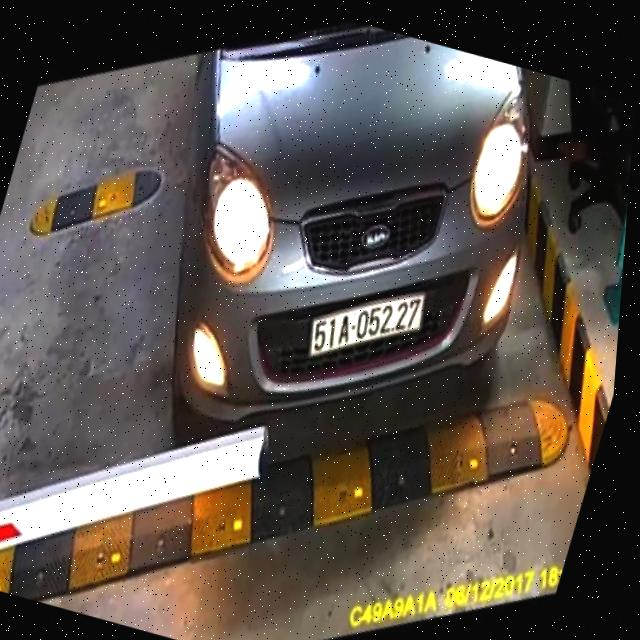car: (91, 8, 611, 522)
plate: (292, 264, 439, 391)
